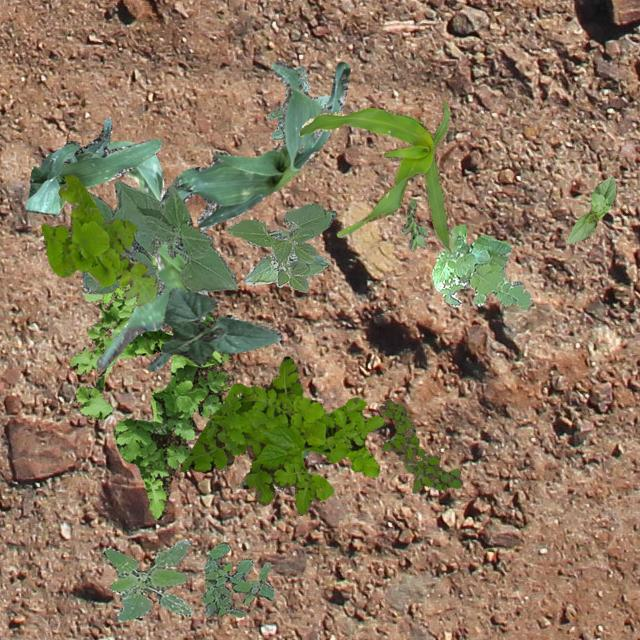crop: (160, 60, 348, 228), (96, 140, 206, 370), (298, 100, 450, 250), (80, 180, 238, 294), (25, 116, 162, 214), (160, 286, 280, 366), (227, 202, 336, 290), (566, 172, 616, 244), (272, 448, 310, 489)
weed: (69, 253, 232, 520), (180, 356, 383, 514), (40, 172, 156, 306), (430, 224, 530, 308), (378, 398, 462, 492), (102, 538, 192, 620), (200, 540, 274, 616), (265, 65, 329, 138), (398, 198, 428, 250), (102, 284, 125, 302)
